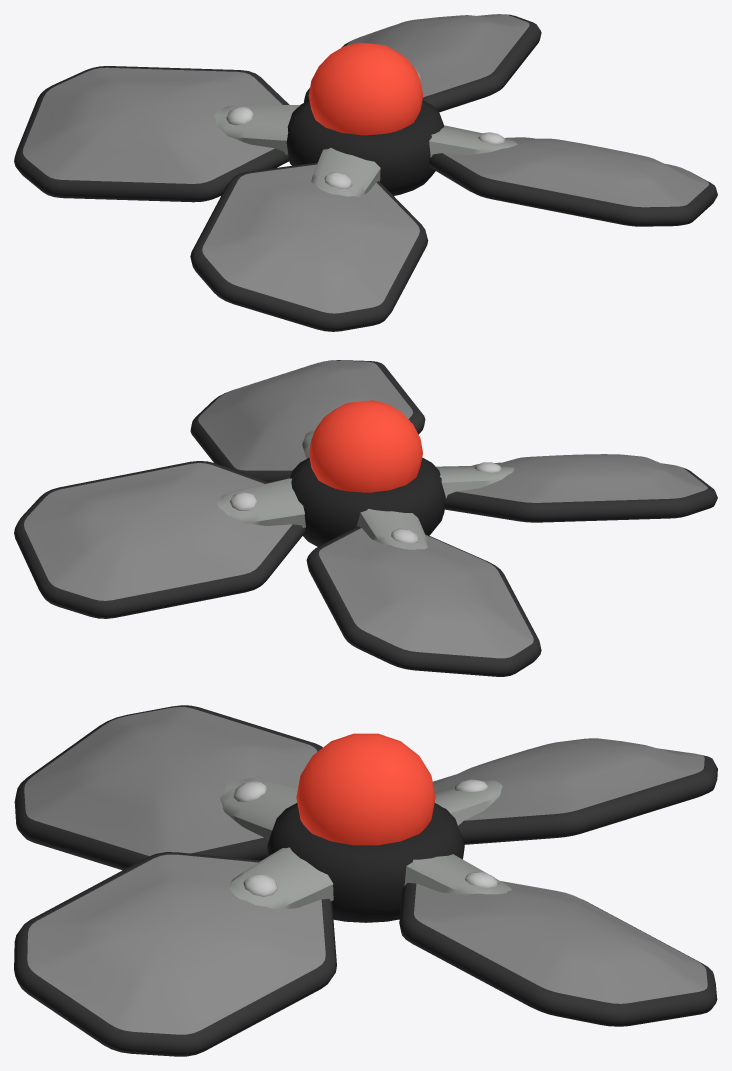
The model's file is fan.glb.
3 views of the same model, one above another, from view 1: azimuth 30°, elevation 25°; view 2: azimuth 150°, elevation 25°; view 3: azimuth 270°, elevation 25° (orthographic). The views are drawn at different scales.
Visible parts, largest first — view 1: blade1, blade2, blade3, blade0, ball, collar, strap1, strap2, strap3; view 2: blade0, blade1, blade3, blade2, ball, collar, strap0, strap1, strap2; view 3: blade3, blade2, blade0, blade1, ball, collar, strap3, strap2, strap0, strap1, strap3_rivet.
Boxes of the visible parts, <box> form: blade1: <box>14,66,289,202</box>; blade2: <box>190,162,428,331</box>; blade3: <box>429,137,717,226</box>; blade0: <box>304,14,541,112</box>; ball: <box>308,42,423,135</box>; collar: <box>286,100,443,195</box>; strap1: <box>214,105,300,154</box>; strap2: <box>311,148,380,196</box>; strap3: <box>429,125,517,157</box>; blade0: <box>14,461,305,618</box>; blade1: <box>306,526,541,676</box>; blade3: <box>190,360,425,482</box>; blade2: <box>444,454,717,522</box>; ball: <box>309,400,422,492</box>; collar: <box>290,457,445,546</box>; strap0: <box>217,478,305,527</box>; strap1: <box>356,508,429,549</box>; strap2: <box>436,465,514,498</box>; blade3: <box>14,852,336,1056</box>; blade2: <box>14,705,322,870</box>; blade0: <box>399,881,717,1026</box>; blade1: <box>432,738,717,844</box>; ball: <box>296,733,435,845</box>; collar: <box>267,803,464,922</box>; strap3: <box>229,847,333,909</box>; strap2: <box>220,778,297,840</box>; strap0: <box>404,854,511,894</box>; strap1: <box>434,780,502,825</box>; strap3_rivet: <box>243,874,277,896</box>.
Size of the model in its own units: 21.73 by 5.85 by 21.73.
